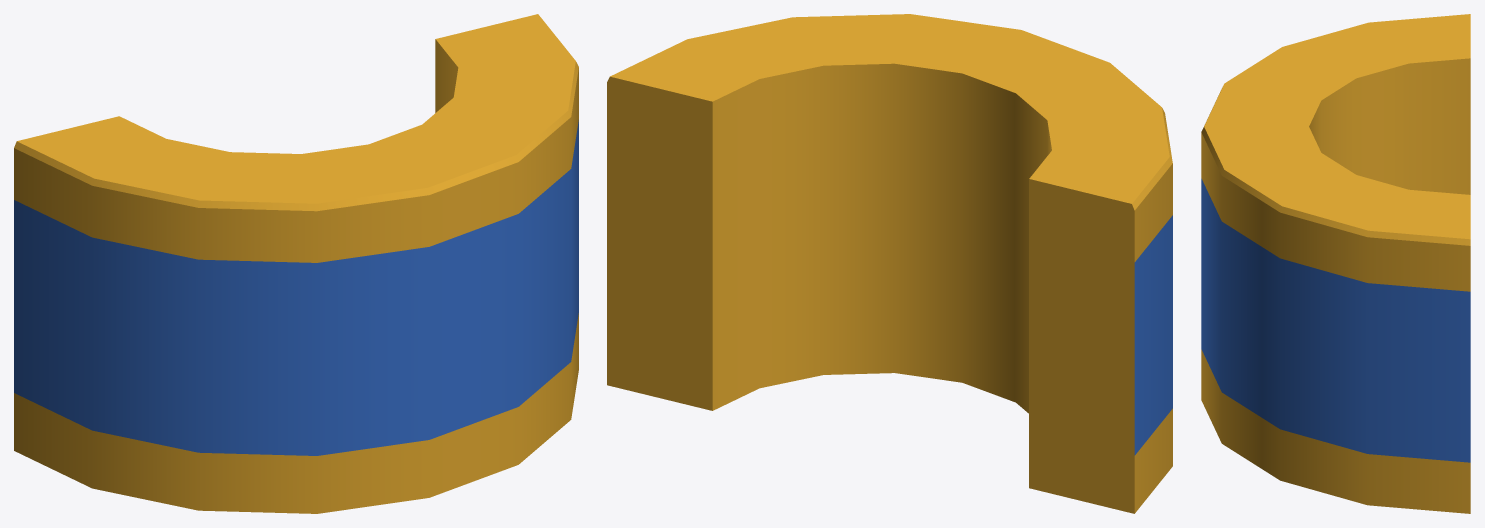
Rendered from Counter_00.FBX.
3 views of the same model, side by side, from view 1: azimuth 30°, elevation 25°; view 2: azimuth 150°, elevation 25°; view 3: azimuth 270°, elevation 25° (orthographic). The views are drawn at different scales.
Visible parts, largest first — view 1: Counter_00; view 2: Counter_00; view 3: Counter_00.
Boxes of the visible parts, x1=… form: Counter_00: x1=14, y1=14, x2=578, y2=513; Counter_00: x1=607, y1=14, x2=1172, y2=513; Counter_00: x1=1201, y1=14, x2=1470, y2=513.
Bounding box in the file's own units: 1.66 × 0.9315 × 0.8312.
